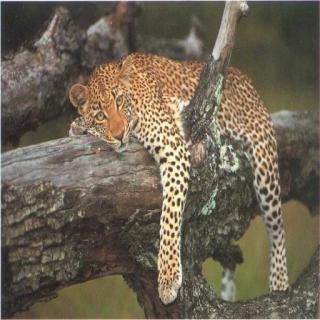Leopard: (61, 34, 314, 320)
